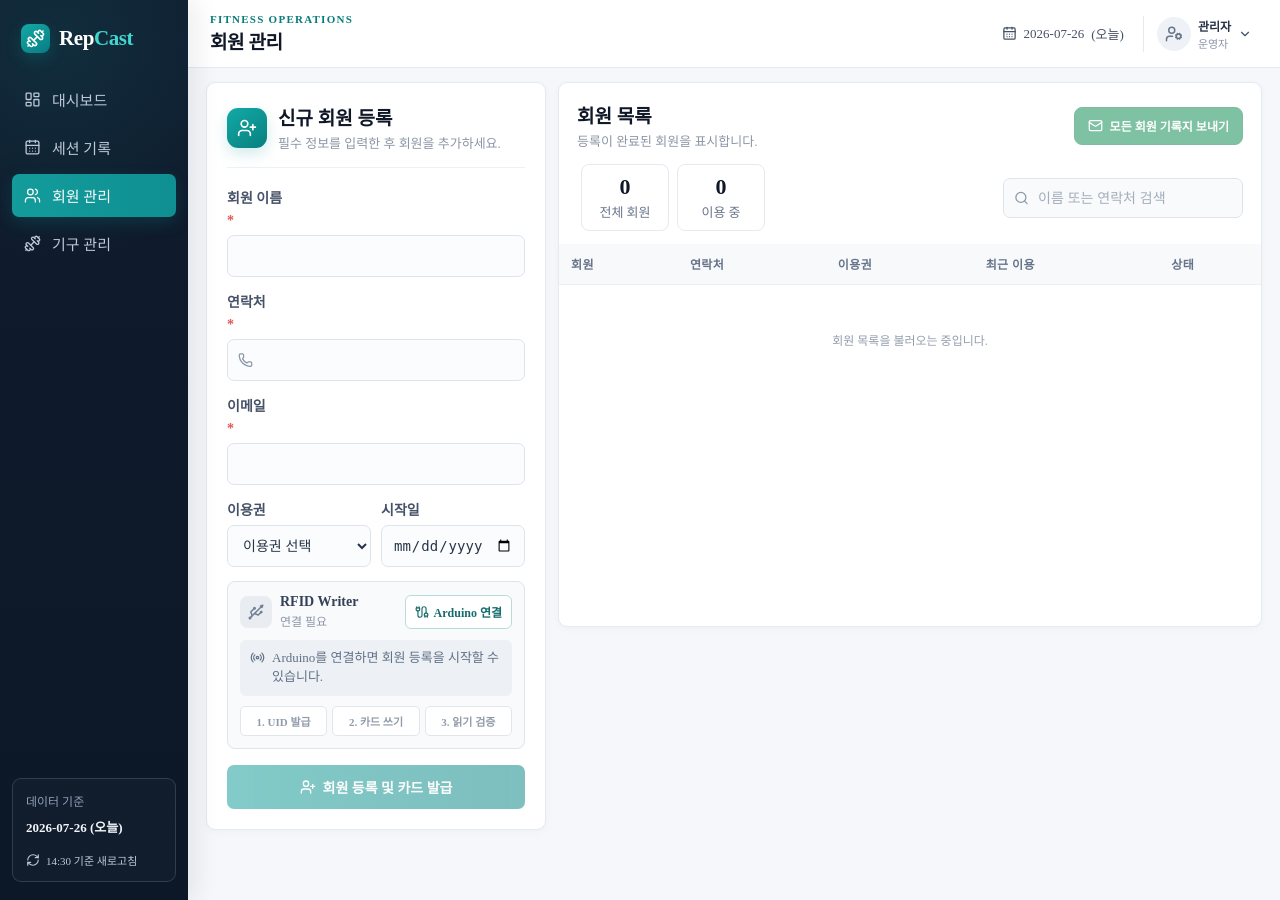
/members에서 회원 등록 후 RFID 쓰기와 읽기 검증을 수행한다
The width and height of the screenshot is (1280, 900).
Click the button "Arduino 연결" at (458, 612), box [405,595,512,629]
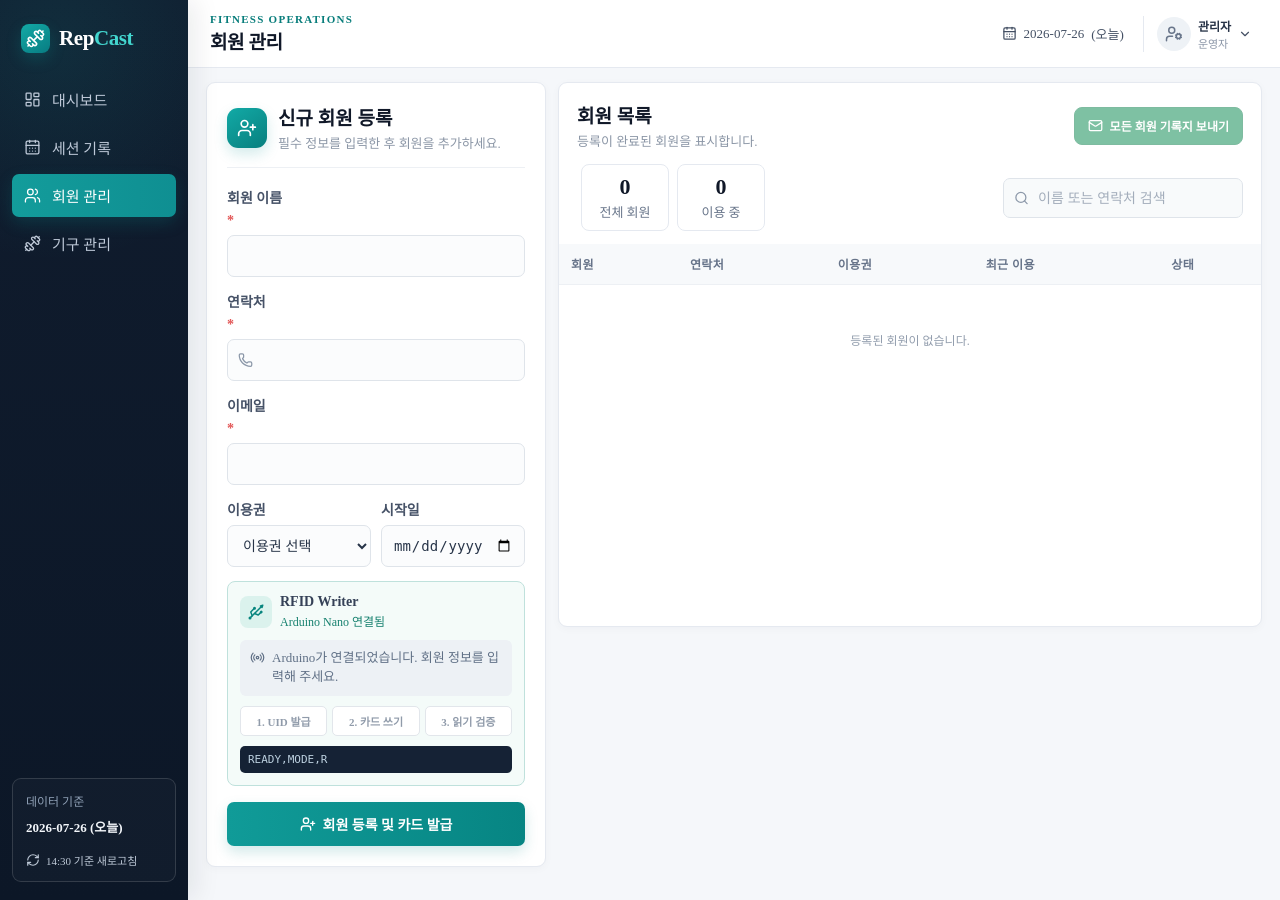
Result: the text "Arduino Nano 연결됨" is shown at [280,612,385,630]
Type "홍길동" into the field labelled "회원 이름 *" at (376, 256), box [227,235,525,277]
Type "010-1234-5678" into the field labelled "연락처 *" at (376, 360), box [227,339,525,381]
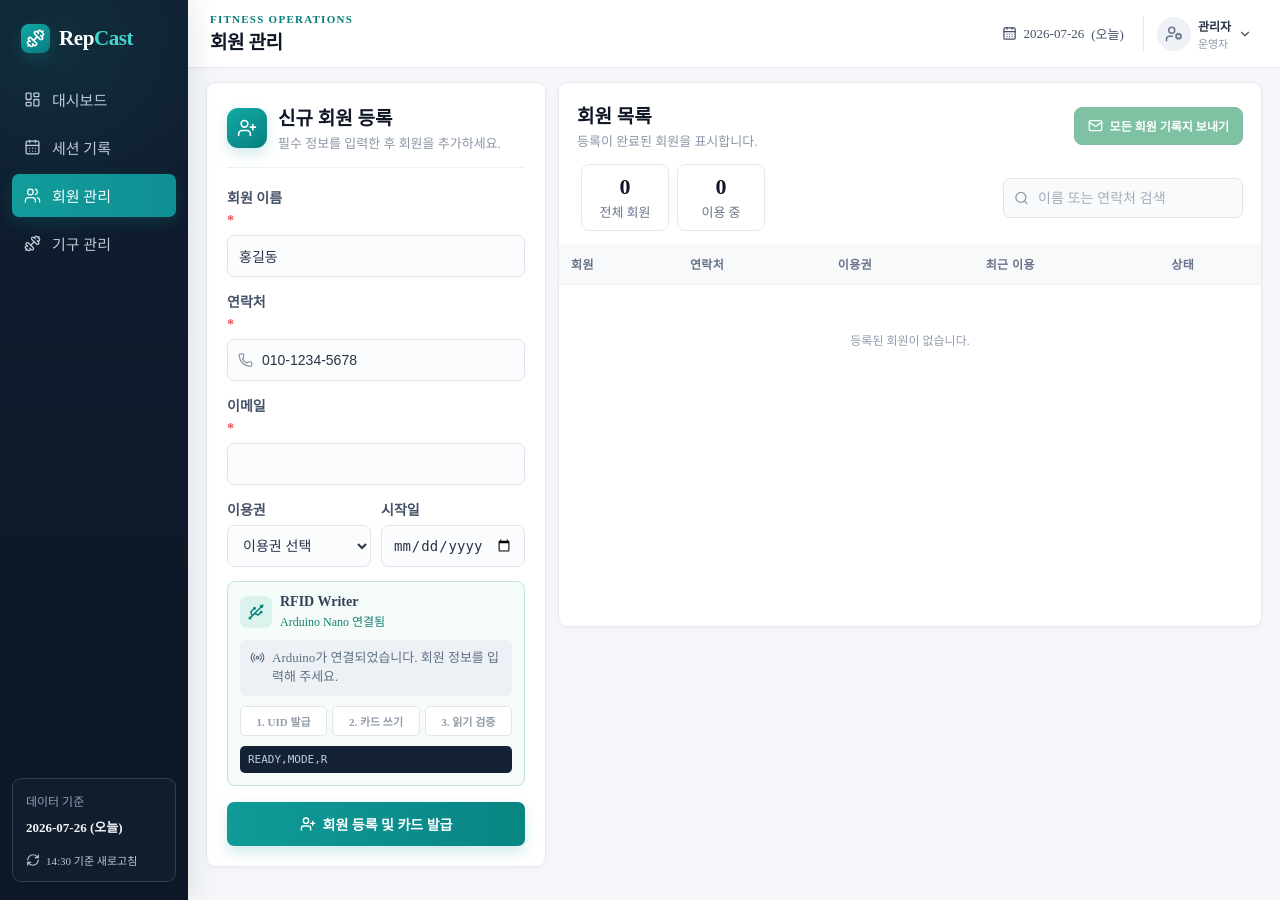
Type "member@example.com" into the field labelled "이메일 *" at (376, 464), box [227,443,525,485]
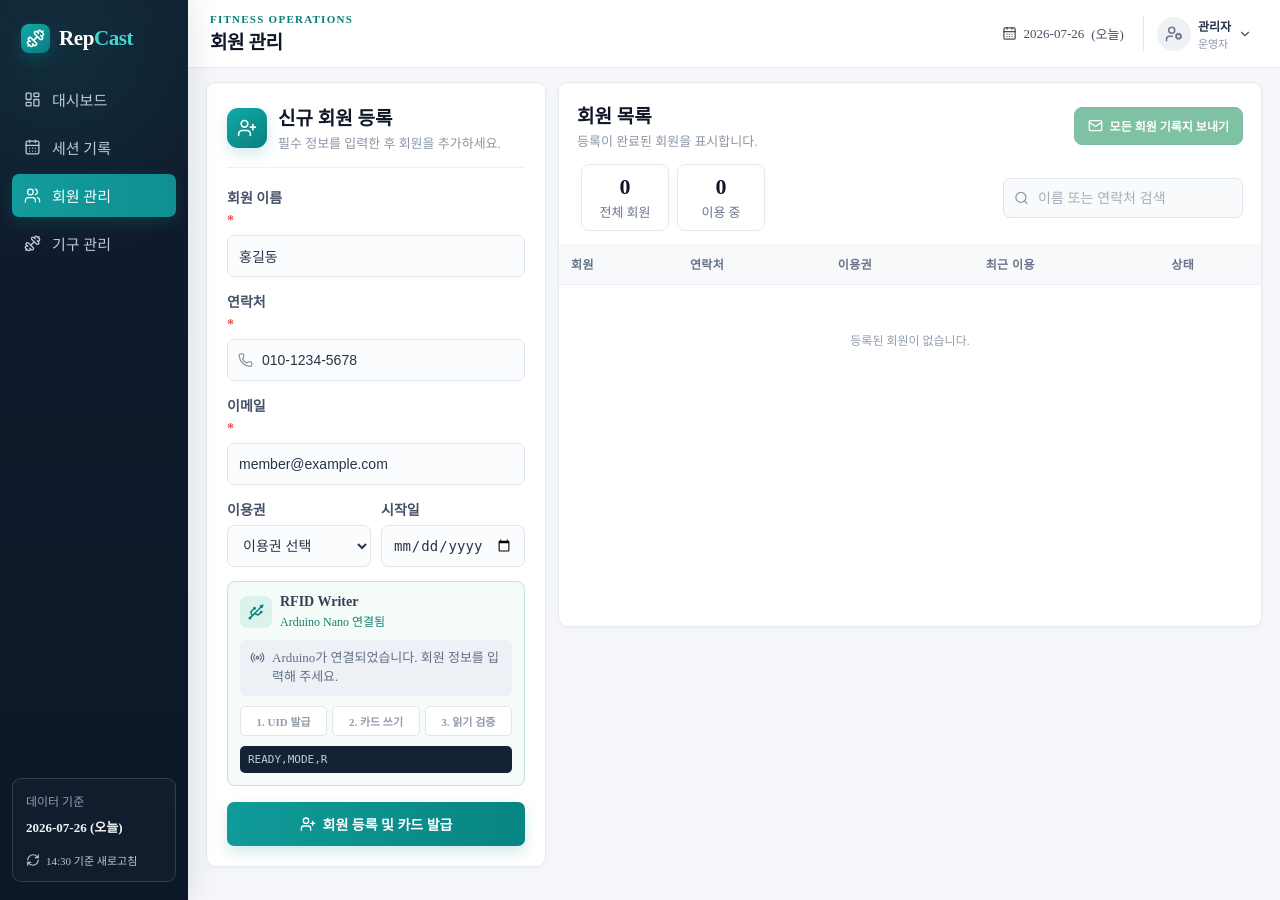
Select "3개월 이용권" in the dropdown labelled "이용권" at (299, 546), box [227,525,371,567]
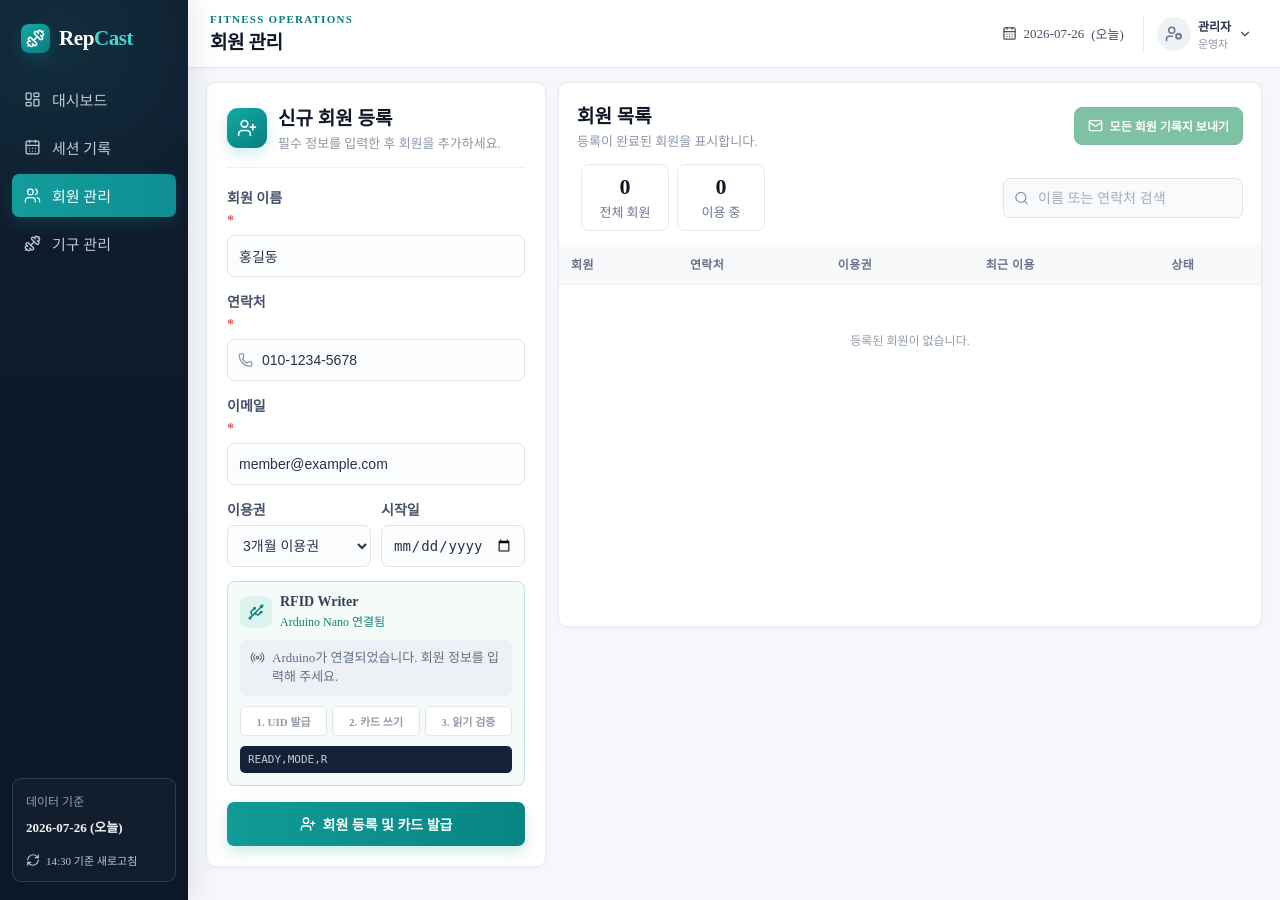
Type "2026-07-24" into the date field labelled "시작일" at (453, 546), box [381,525,525,567]
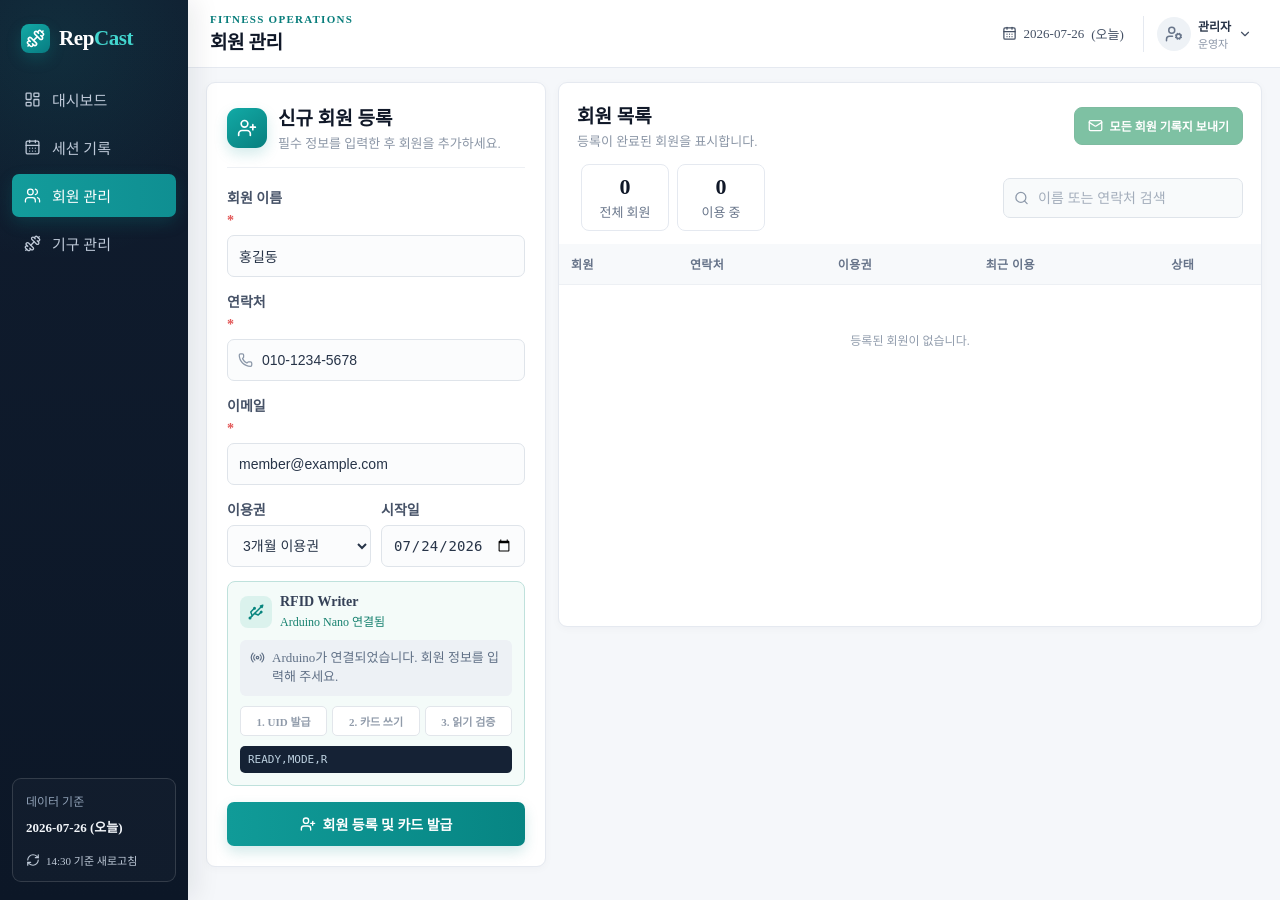
Click the button "회원 등록 및 카드 발급" at (376, 824), box [227,802,525,846]
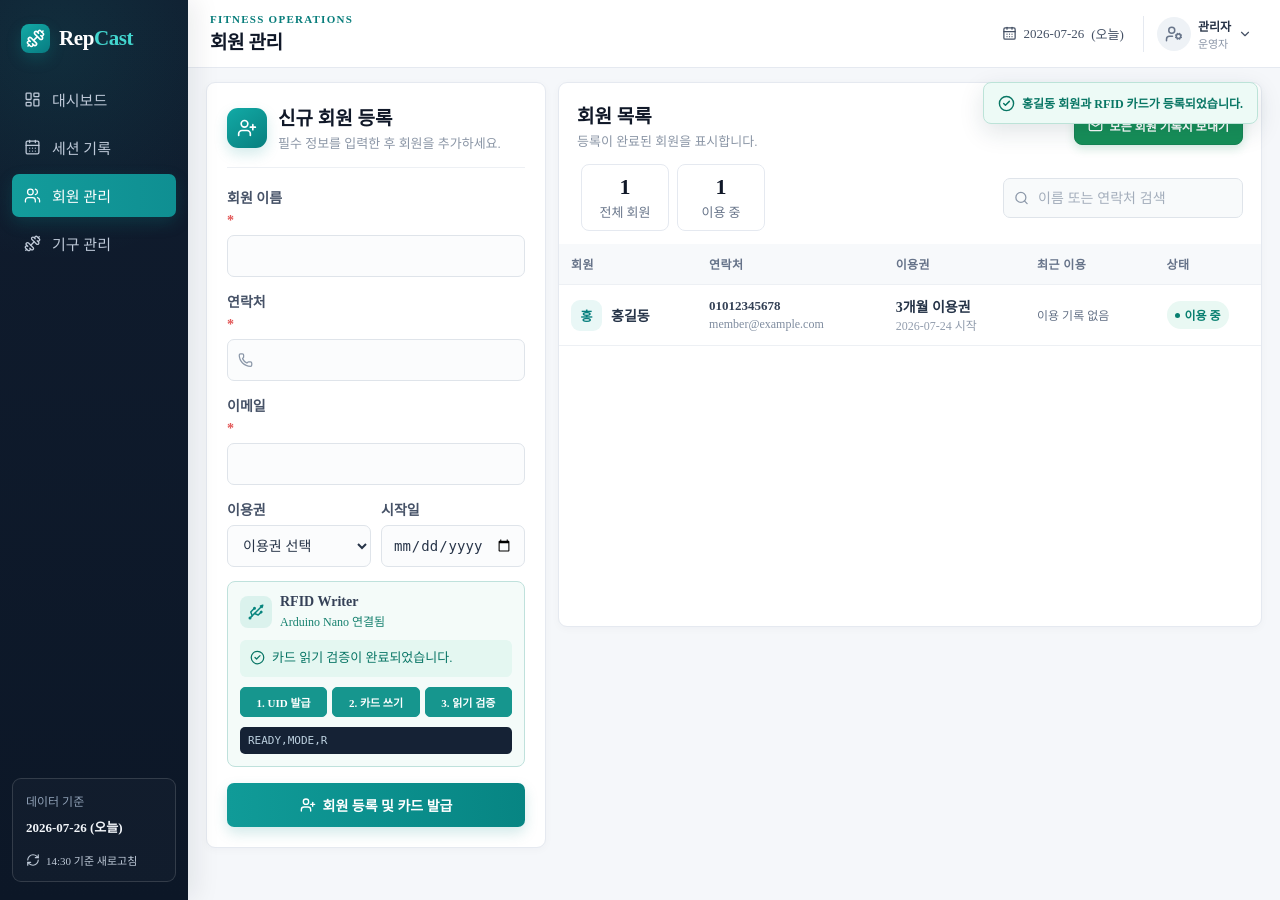
Result: the text "홍길동 회원과 RFID 카드가 등록되었습니다." is shown at [983,82,1258,124]
Result: the text "01012345678" is shown at [709,298,781,313]
Result: the text "member@example.com" is shown at [709,317,824,331]
